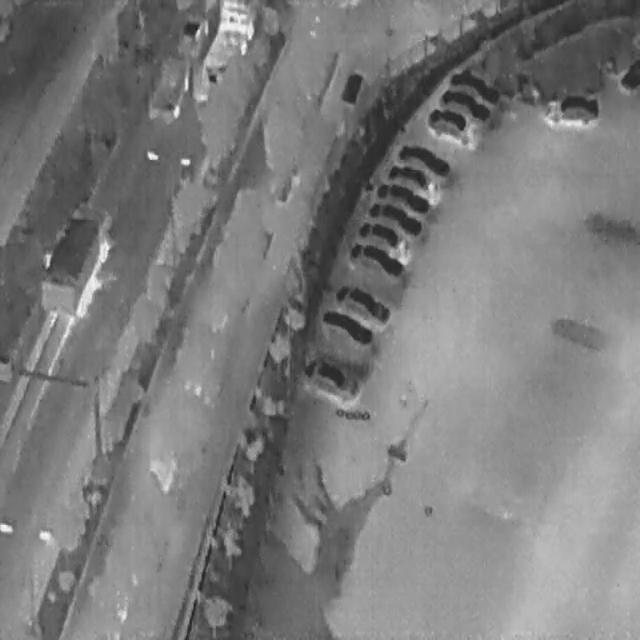Car: (351, 209, 415, 265), (299, 348, 364, 403), (315, 298, 378, 354), (345, 232, 410, 286), (420, 99, 484, 152), (444, 59, 507, 112), (332, 275, 395, 327), (363, 192, 426, 242), (371, 171, 434, 221), (436, 78, 498, 128), (393, 134, 456, 182), (384, 154, 443, 202), (541, 92, 600, 126), (177, 7, 207, 48), (619, 60, 638, 92)
OtherVehicle: (29, 186, 123, 329), (197, 0, 259, 102), (143, 45, 194, 126)
